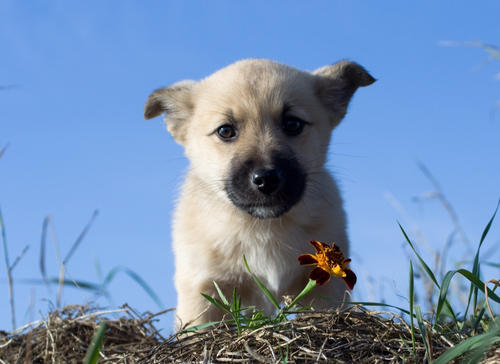dog: (122, 56, 394, 234)
